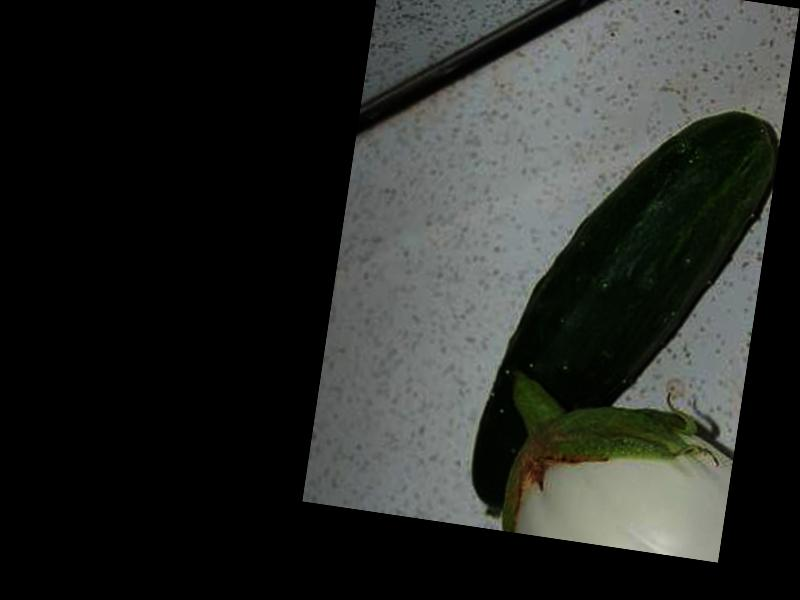Cucumber: (466, 82, 783, 550)
